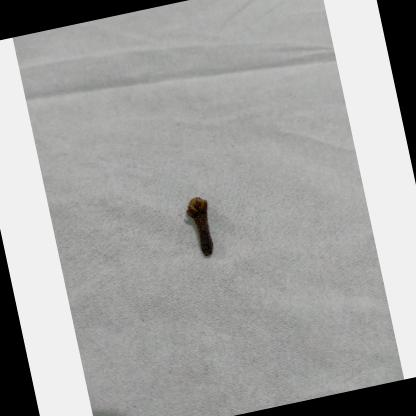sedang: (186, 197, 214, 257)
